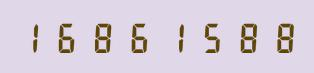eight: (87, 20, 121, 53), (227, 20, 261, 53), (262, 20, 296, 53)
five: (192, 20, 226, 53)
one: (17, 20, 51, 53), (157, 20, 191, 53)
six: (52, 20, 86, 53), (122, 20, 156, 53)
